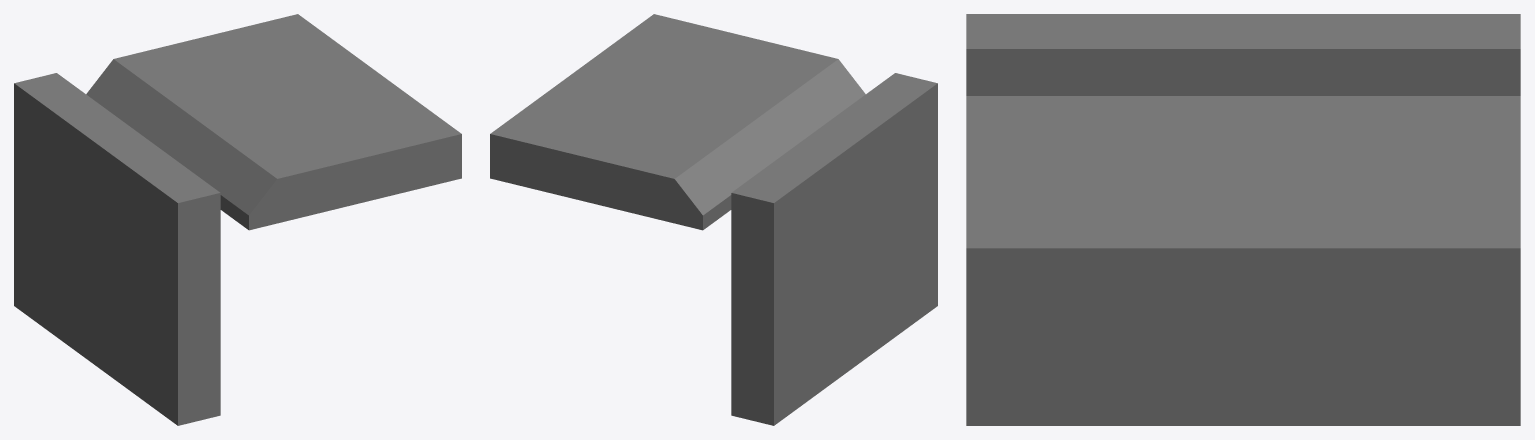
The model's file is У7_Кромки.glb.
3 renders of one model, left to right at view 1: azimuth 30°, elevation 25°; view 2: azimuth 150°, elevation 25°; view 3: azimuth 270°, elevation 25°, orthographic. The views are drawn at different scales.
Visible parts, largest first — view 1: node_id3; view 2: node_id3; view 3: node_id3.
Part boxes in pixels (left/top/right/bottom): node_id3: left=14, top=14, right=461, bottom=425; node_id3: left=490, top=14, right=937, bottom=425; node_id3: left=966, top=14, right=1520, bottom=425.
Size of the model in its own units: 0.512 by 0.384 by 0.512.
1 material, 1 textured.
